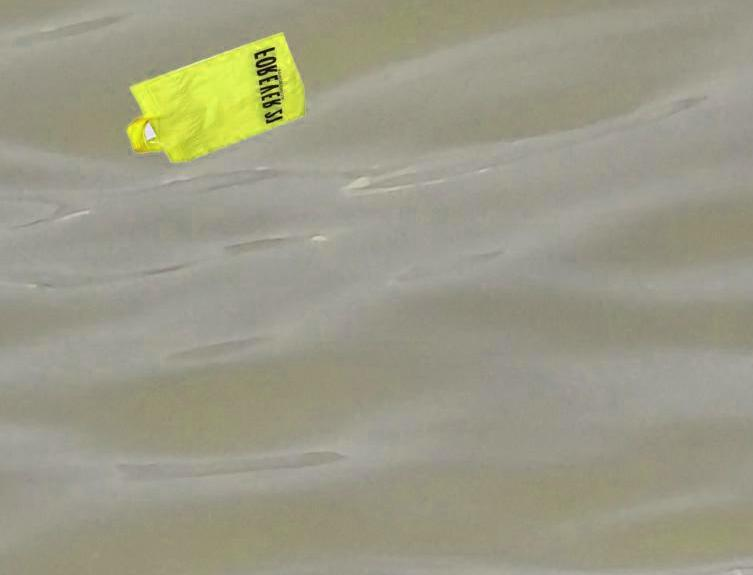Trash: (126, 30, 309, 172)
